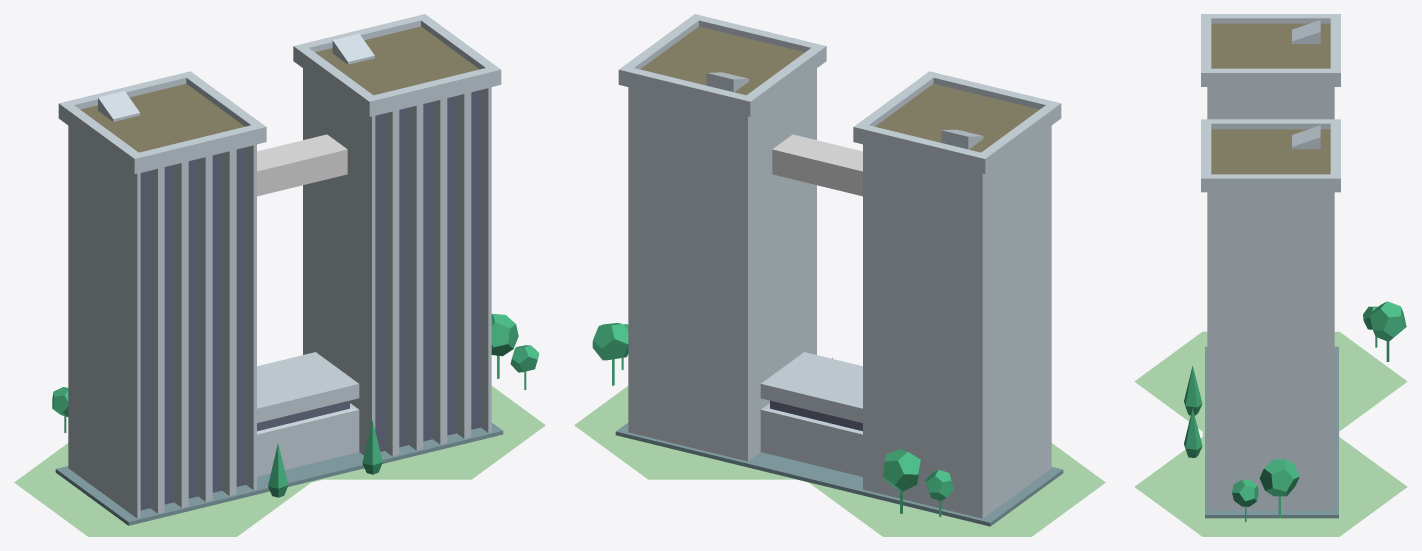
Rendered from Temp_Building1.fbx.
3 renders of one model, left to right at view 1: azimuth 30°, elevation 25°; view 2: azimuth 150°, elevation 25°; view 3: azimuth 270°, elevation 25°, orthographic. The views are drawn at different scales.
Parts seen in each view (by area): view 1: 立方体, 柱体, 平面.001, 立方体.003, 棱角球.002, 棱角球.003, 柱体.002, 柱体.001; view 2: 立方体, 柱体, 平面.001, 立方体.003, 棱角球.006, 棱角球.002, 棱角球.009; view 3: 立方体, 柱体, 平面.001, 棱角球.002, 棱角球.006, 棱角球.003, 柱体.001, 柱体.002.
Boxes of the visible parts, bbox=[...] form: 立方体: bbox=[58, 14, 501, 518]; 柱体: bbox=[14, 386, 545, 536]; 平面.001: bbox=[55, 422, 503, 525]; 立方体.003: bbox=[257, 134, 347, 196]; 棱角球.002: bbox=[491, 314, 518, 378]; 棱角球.003: bbox=[510, 345, 539, 389]; 柱体.002: bbox=[268, 443, 288, 497]; 柱体.001: bbox=[362, 420, 382, 474]; 立方体: bbox=[618, 14, 1061, 518]; 柱体: bbox=[574, 386, 1105, 536]; 平面.001: bbox=[615, 422, 1063, 526]; 立方体.003: bbox=[772, 134, 862, 196]; 棱角球.006: bbox=[883, 449, 920, 513]; 棱角球.002: bbox=[592, 323, 628, 385]; 棱角球.009: bbox=[925, 470, 953, 516]; 立方体: bbox=[1201, 14, 1340, 510]; 柱体: bbox=[1134, 331, 1407, 536]; 平面.001: bbox=[1205, 346, 1338, 518]; 棱角球.002: bbox=[1259, 459, 1299, 518]; 棱角球.006: bbox=[1369, 301, 1406, 361]; 棱角球.003: bbox=[1232, 479, 1258, 521]; 柱体.001: bbox=[1184, 408, 1202, 457]; 柱体.002: bbox=[1184, 366, 1202, 415].
Bounding box in the file's own units: 349 × 264 × 190.
